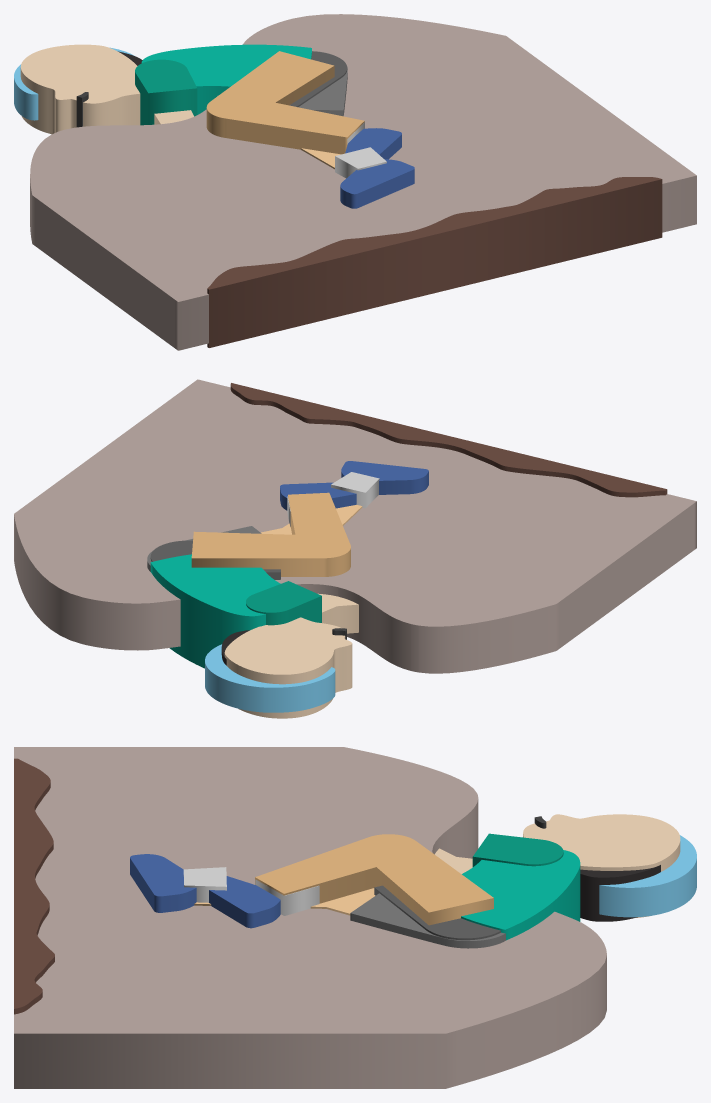
Rendered from emoji_u1f6b5_1f3fb_200d_2642.glb.
3 renders of one model, top to bottom at view 1: azimuth 30°, elevation 25°; view 2: azimuth 150°, elevation 25°; view 3: azimuth 270°, elevation 25°, orthographic. The views are drawn at different scales.
Parts seen in each view (by area): view 1: emoji_u1f6b5_1f3fb_200d_2642; view 2: emoji_u1f6b5_1f3fb_200d_2642; view 3: emoji_u1f6b5_1f3fb_200d_2642.
Boxes of the visible parts, x1=… form: emoji_u1f6b5_1f3fb_200d_2642: x1=14, y1=14, x2=696, y2=350; emoji_u1f6b5_1f3fb_200d_2642: x1=14, y1=379, x2=696, y2=718; emoji_u1f6b5_1f3fb_200d_2642: x1=14, y1=747, x2=696, y2=1088.
Size of the model in its own units: 0.0334 by 0.0054 by 0.0336.
